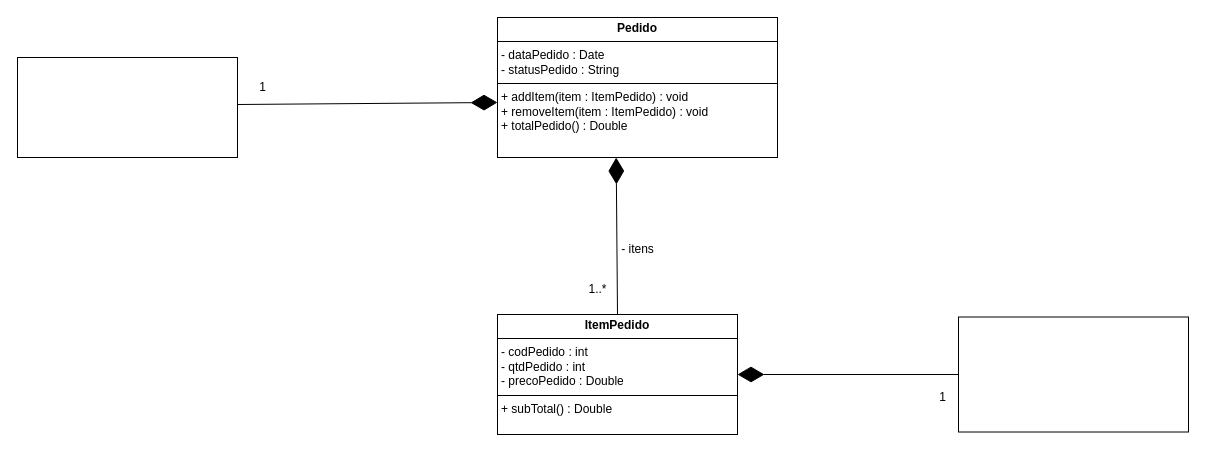
Some shapes in this 1206 by 452 pixel diagram are drawn without their labels. Each missing label, with the centre of its shape:
Cliente - nomeCliente : String - cpf : String - email : String: the point at 127,107
Produto - nomeProduto : String - precoProduto : Double: the point at 1073,374
